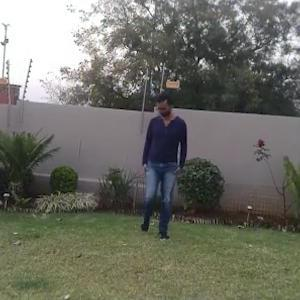follow: (138, 87, 188, 245)
